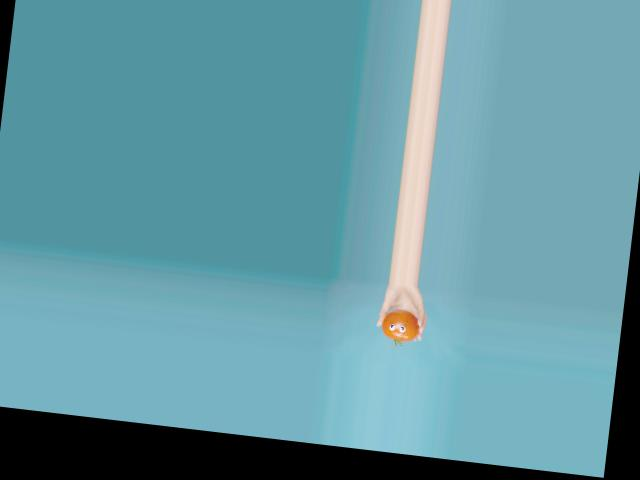tomato: (379, 307, 421, 343)
